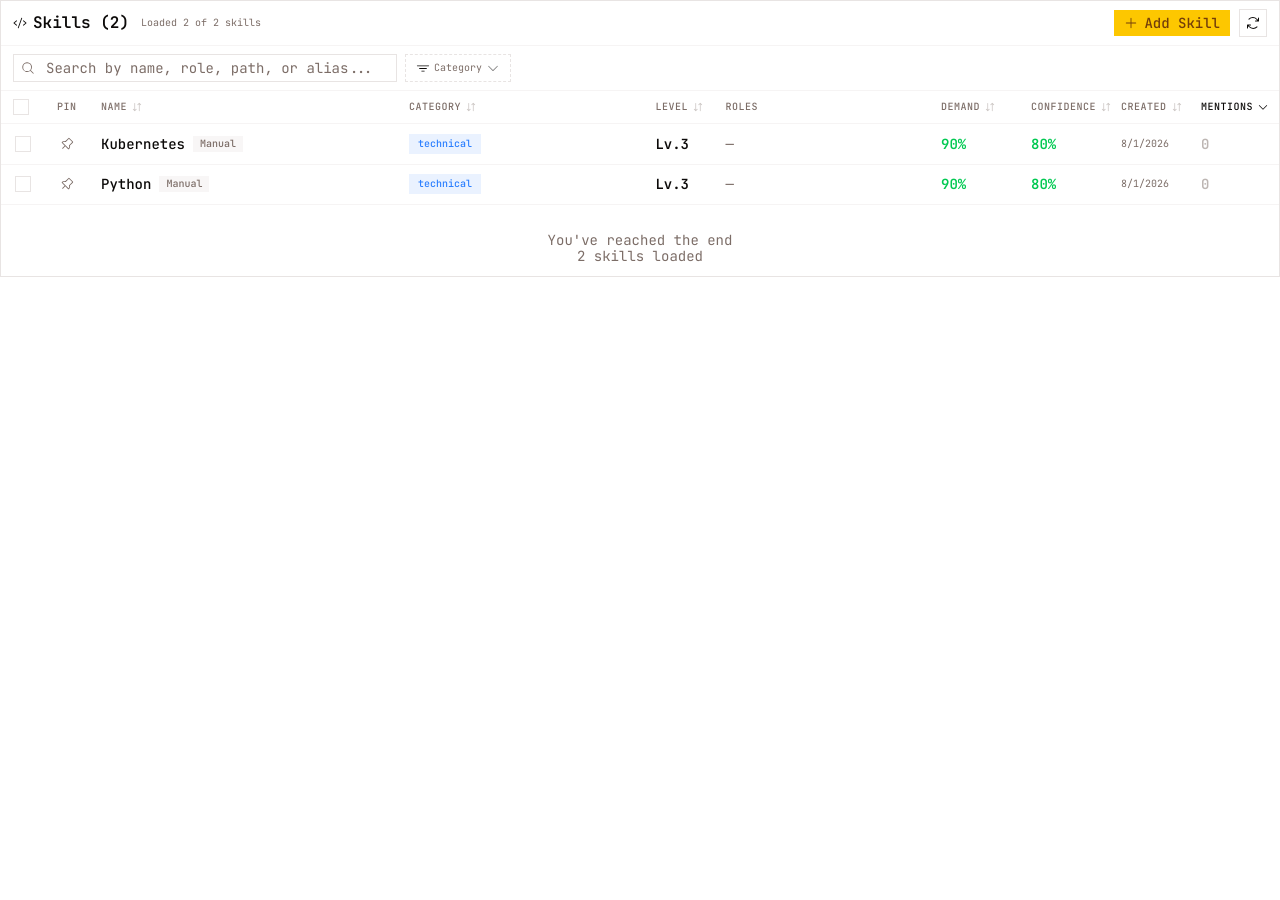
Test: SkillsPage › merges all selected skills into the picked target
Click the checkbox named "Select all skills". click: (21,107)
box: [13, 99, 29, 115]
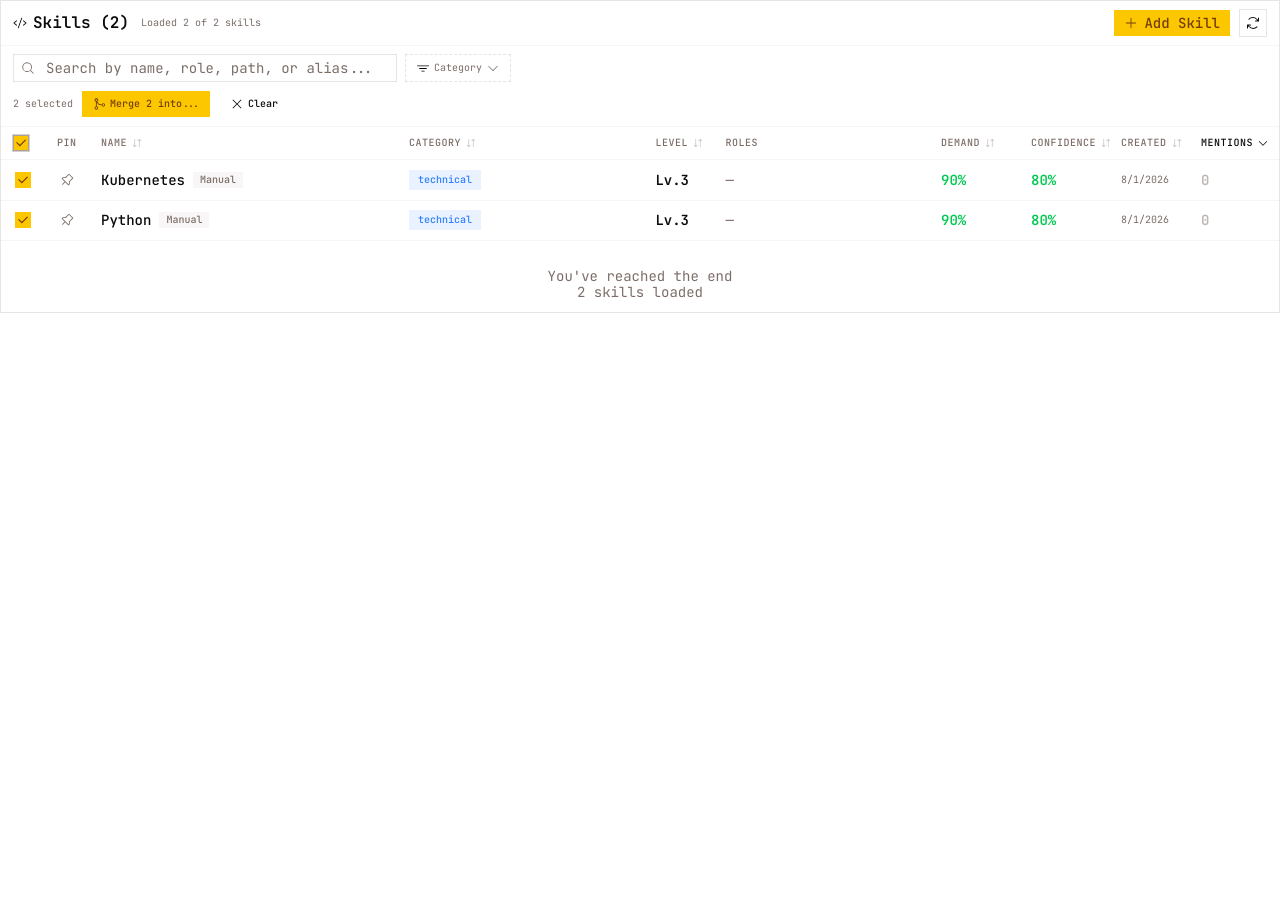
Click the button "Merge 2 into...". click: (146,104)
box: [81, 90, 211, 118]
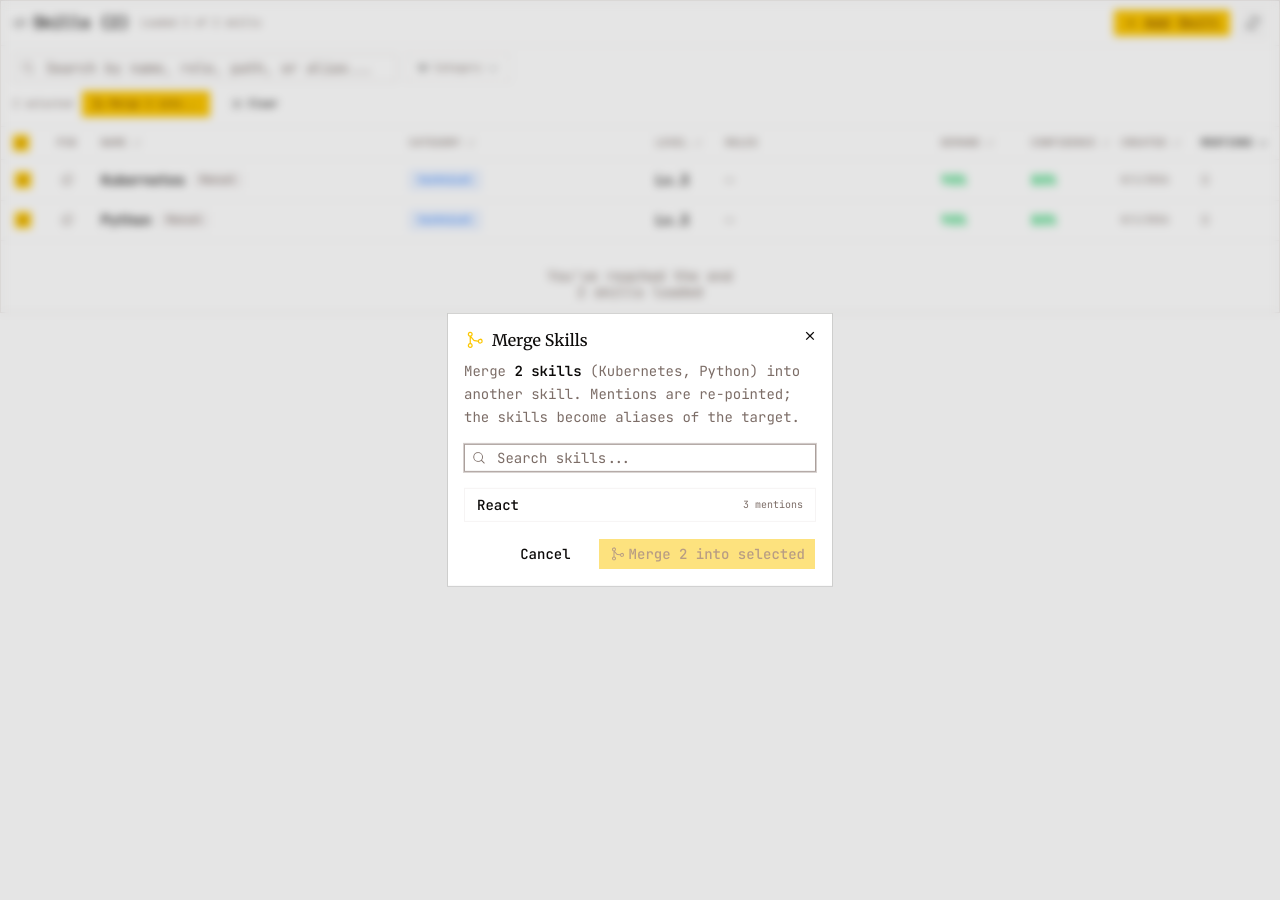
Click the text "React". click: (498,505)
box: [477, 497, 519, 513]
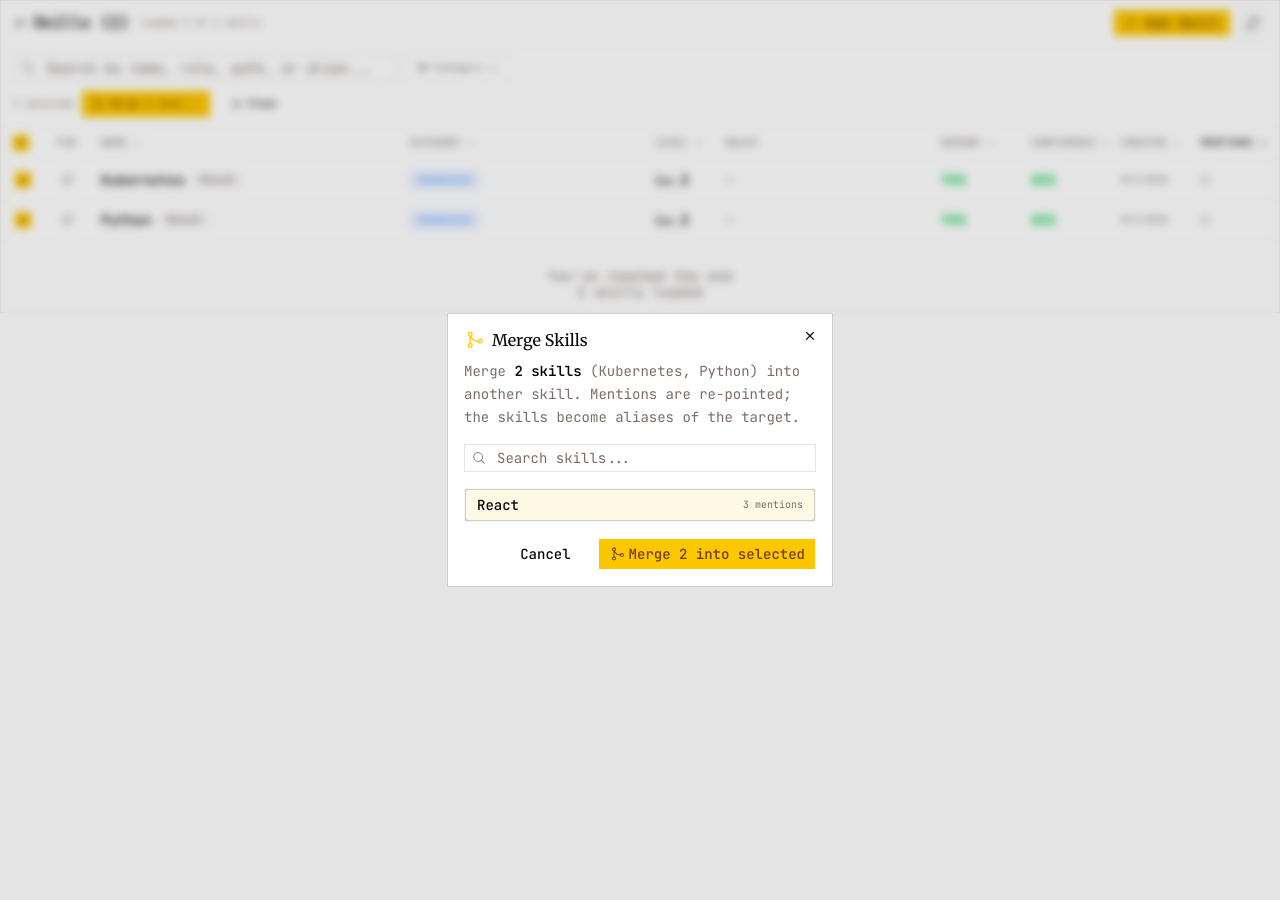
Click the button "Merge 2 into selected". click: (707,554)
box: [598, 538, 816, 570]
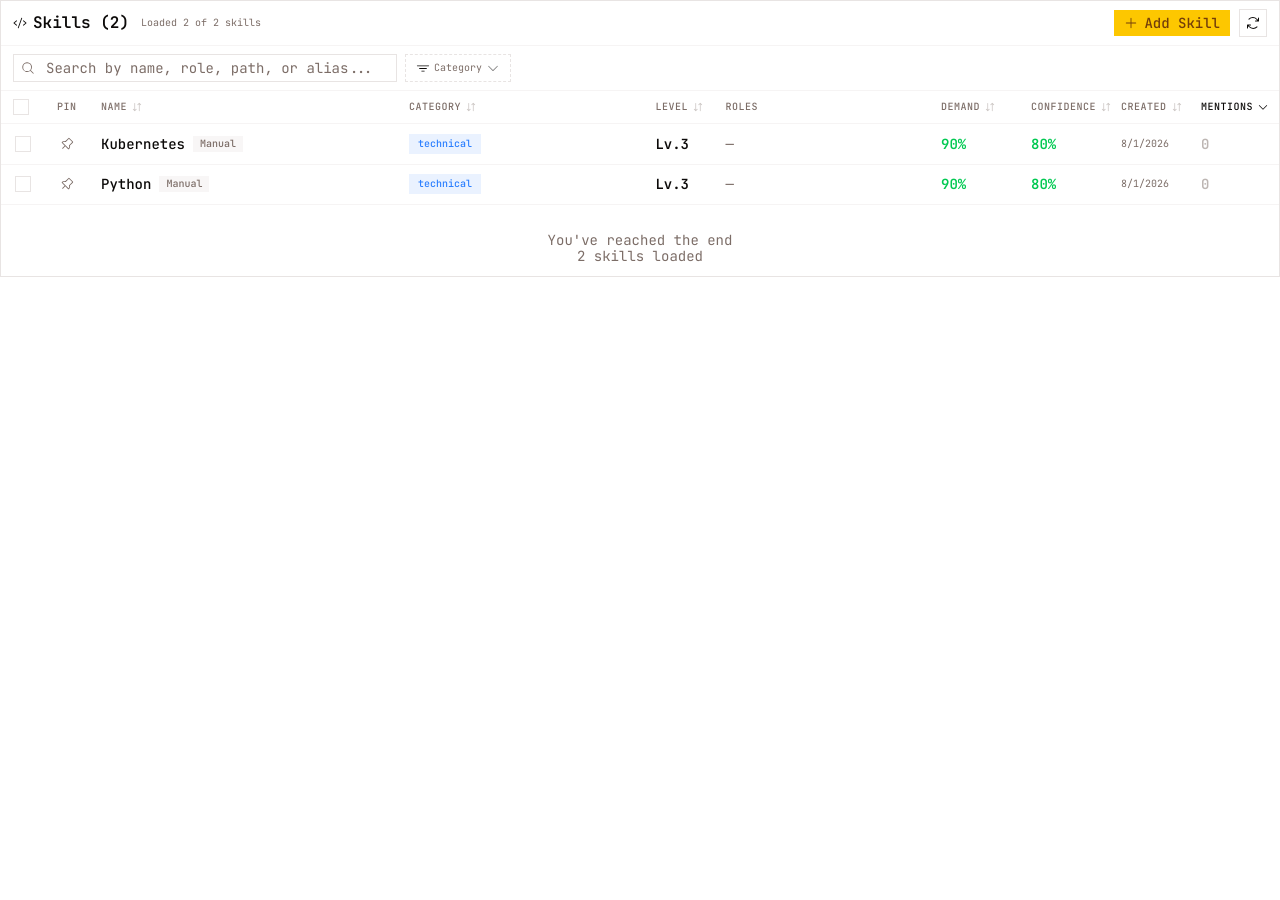
Result: the text "selected" is gone
